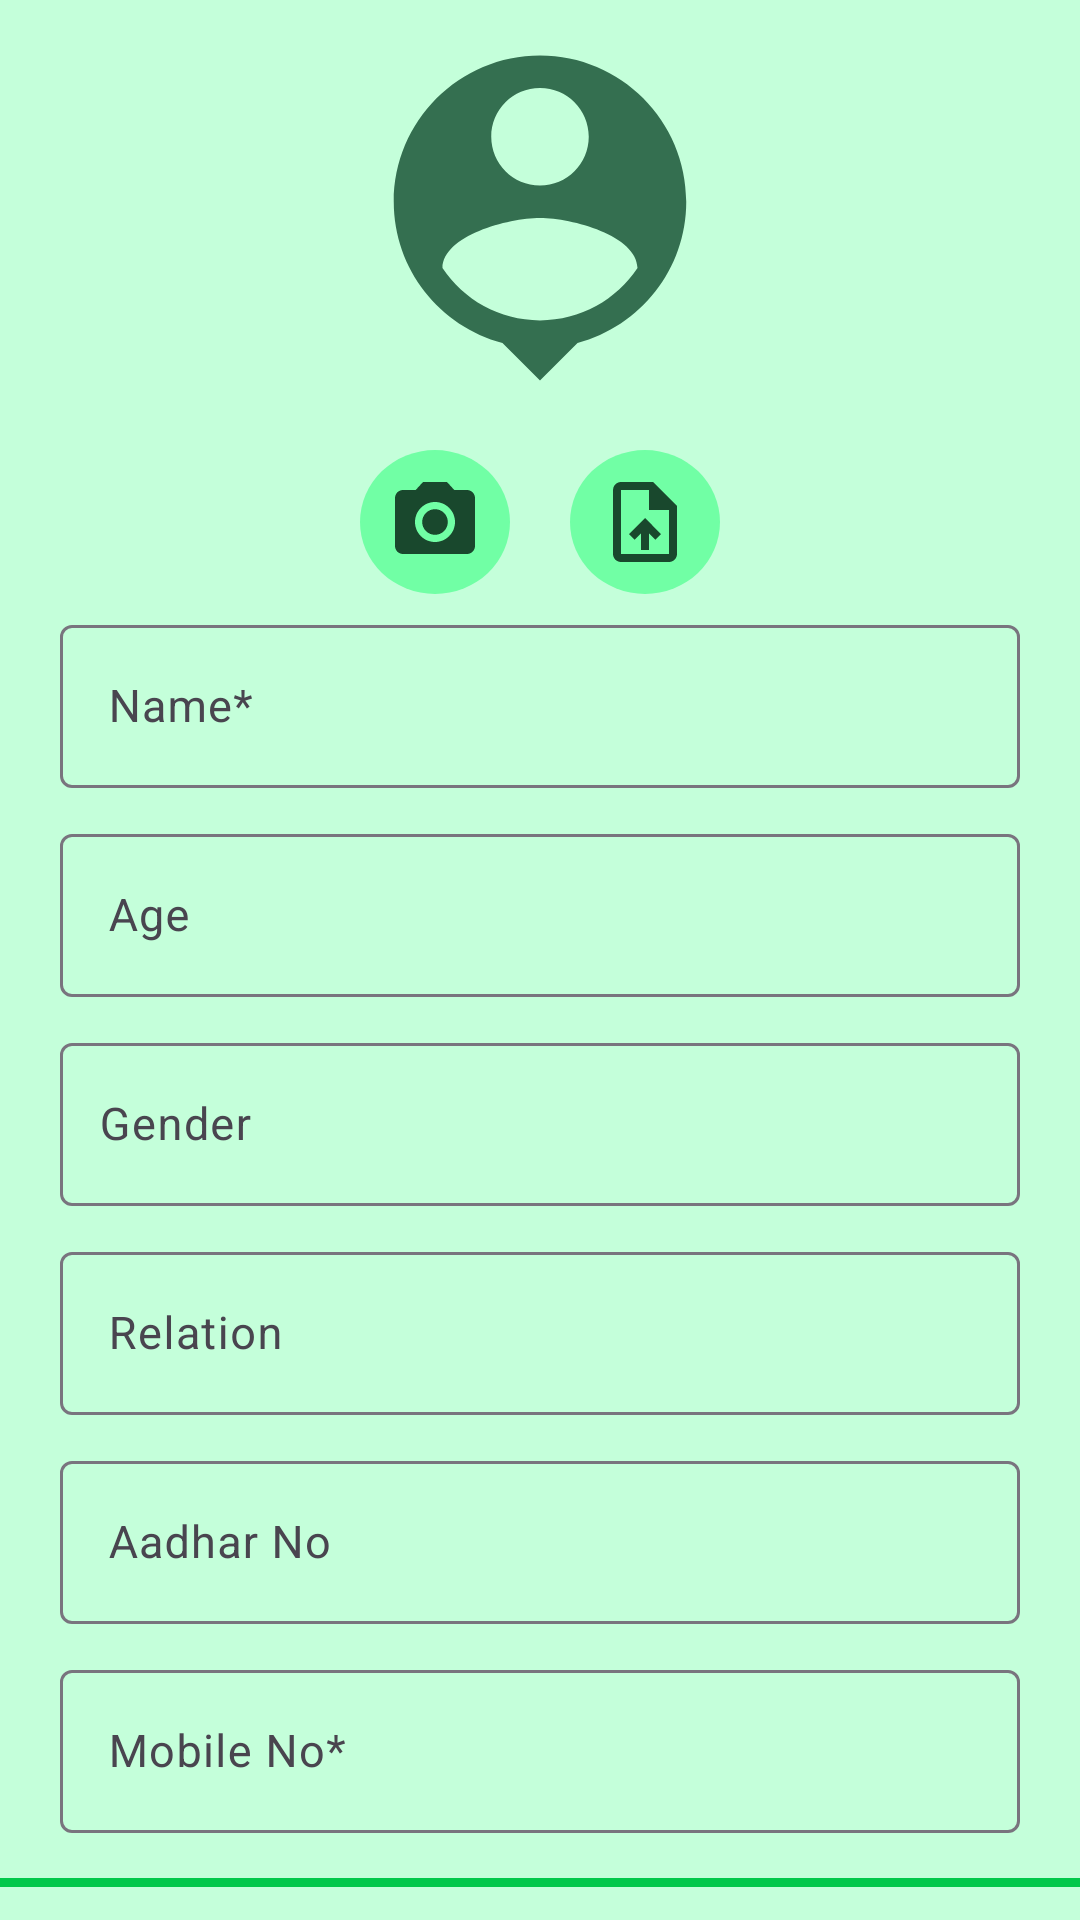

Icon click points for this 1080x1920 phone screenshot, format point (x, y):
camera: point (435, 522)
person: point (540, 217)
upload file: point (645, 522)
